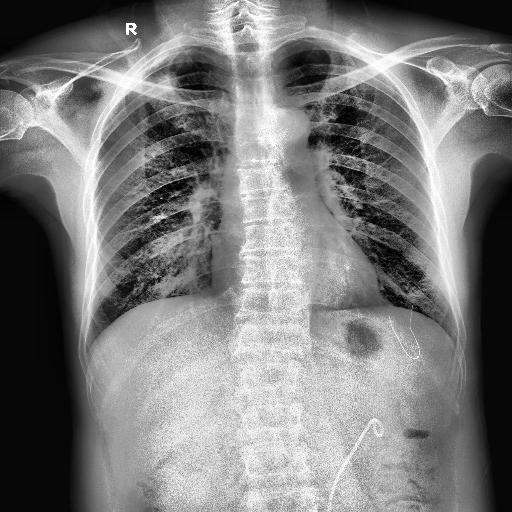0- Aortic enlargement: (269, 108, 311, 142)
11- Pleural thickening: (128, 42, 184, 78), (137, 46, 185, 65)
13- Pulmonary fibrosis: (155, 70, 186, 90), (154, 71, 179, 92), (172, 50, 194, 64)
6- Infiltration: (148, 72, 181, 100)
